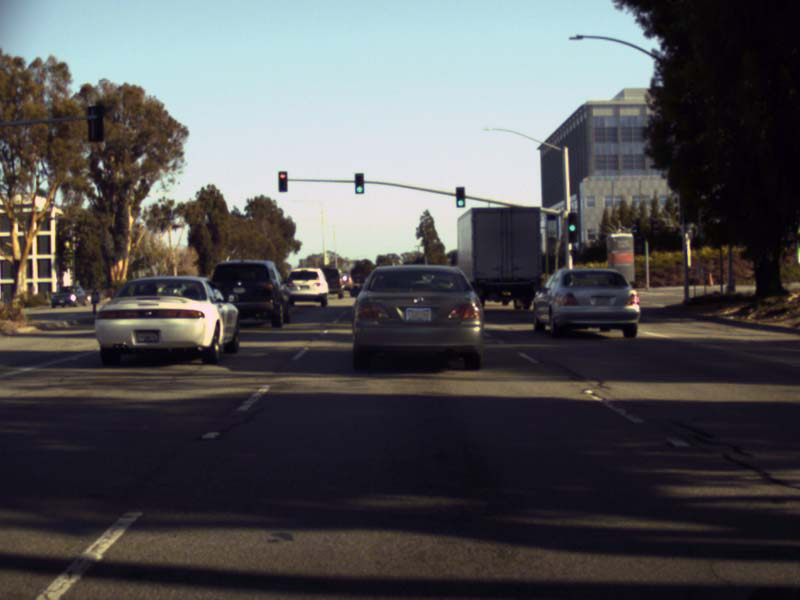Green: (567, 215, 577, 242), (454, 186, 465, 206), (354, 173, 364, 194)
Red: (278, 171, 287, 192)
